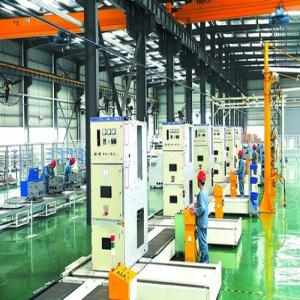red: (196, 171, 207, 190), (70, 157, 77, 167), (238, 150, 244, 161), (51, 160, 57, 171), (253, 145, 258, 152)
